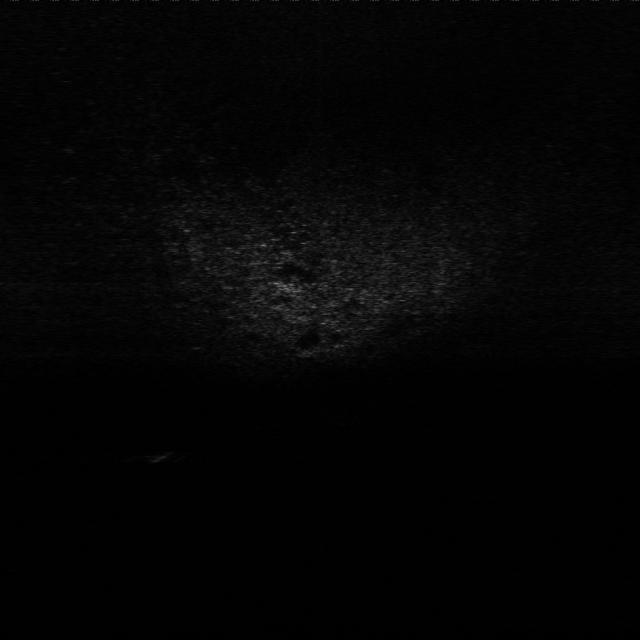cylinder: (144, 444, 174, 467)
